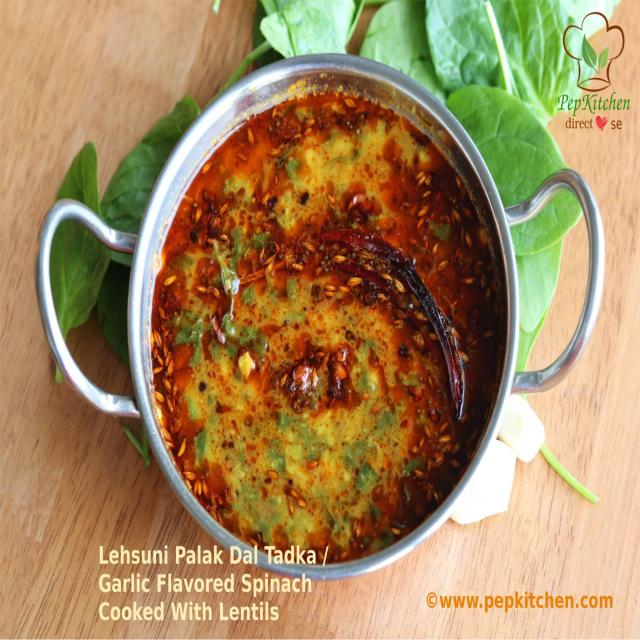dal: (205, 143, 455, 502)
